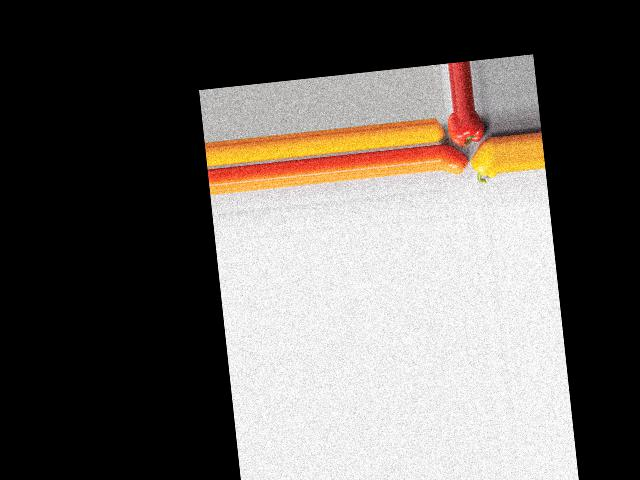bell_pepper: (446, 110, 488, 146)
